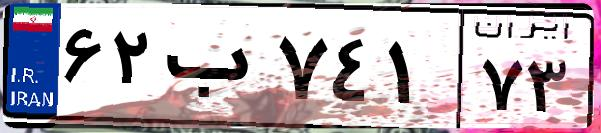1: (385, 28, 445, 110)
2: (110, 28, 158, 98)
3: (525, 38, 570, 115)
4: (330, 28, 385, 110)
6: (57, 26, 110, 100)
7: (270, 28, 330, 110), (475, 38, 525, 113)
ب: (158, 20, 270, 120)
